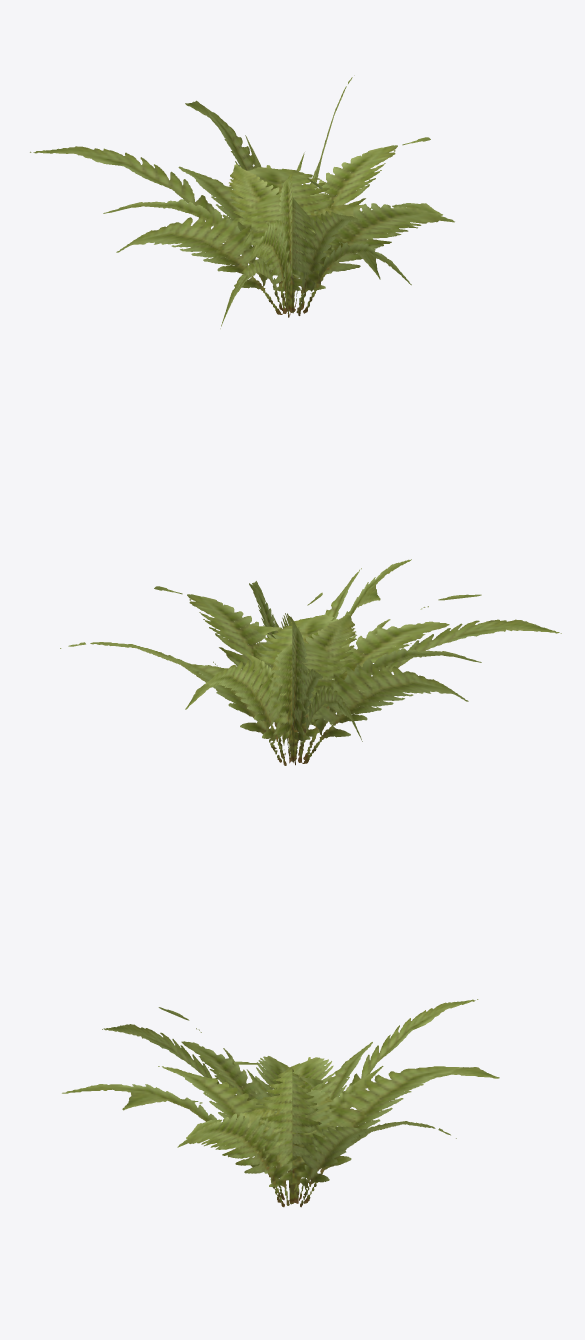
The model's file is fern_medium_a_lod3_cross.gltf.
3 views of the same model, one above another, from view 1: azimuth 30°, elevation 25°; view 2: azimuth 150°, elevation 25°; view 3: azimuth 270°, elevation 25° (orthographic). The views are drawn at different scales.
Parts seen in each view (by area): view 1: fern_medium_a_LOD3; view 2: fern_medium_a_LOD3; view 3: fern_medium_a_LOD3.
Part boxes in pixels (bbox=[...]): fern_medium_a_LOD3: bbox=[30, 75, 454, 328]; fern_medium_a_LOD3: bbox=[60, 559, 561, 765]; fern_medium_a_LOD3: bbox=[62, 999, 499, 1207].
Bounding box in the file's own units: 1.48 × 0.5228 × 1.48.
1 material, 1 textured.
